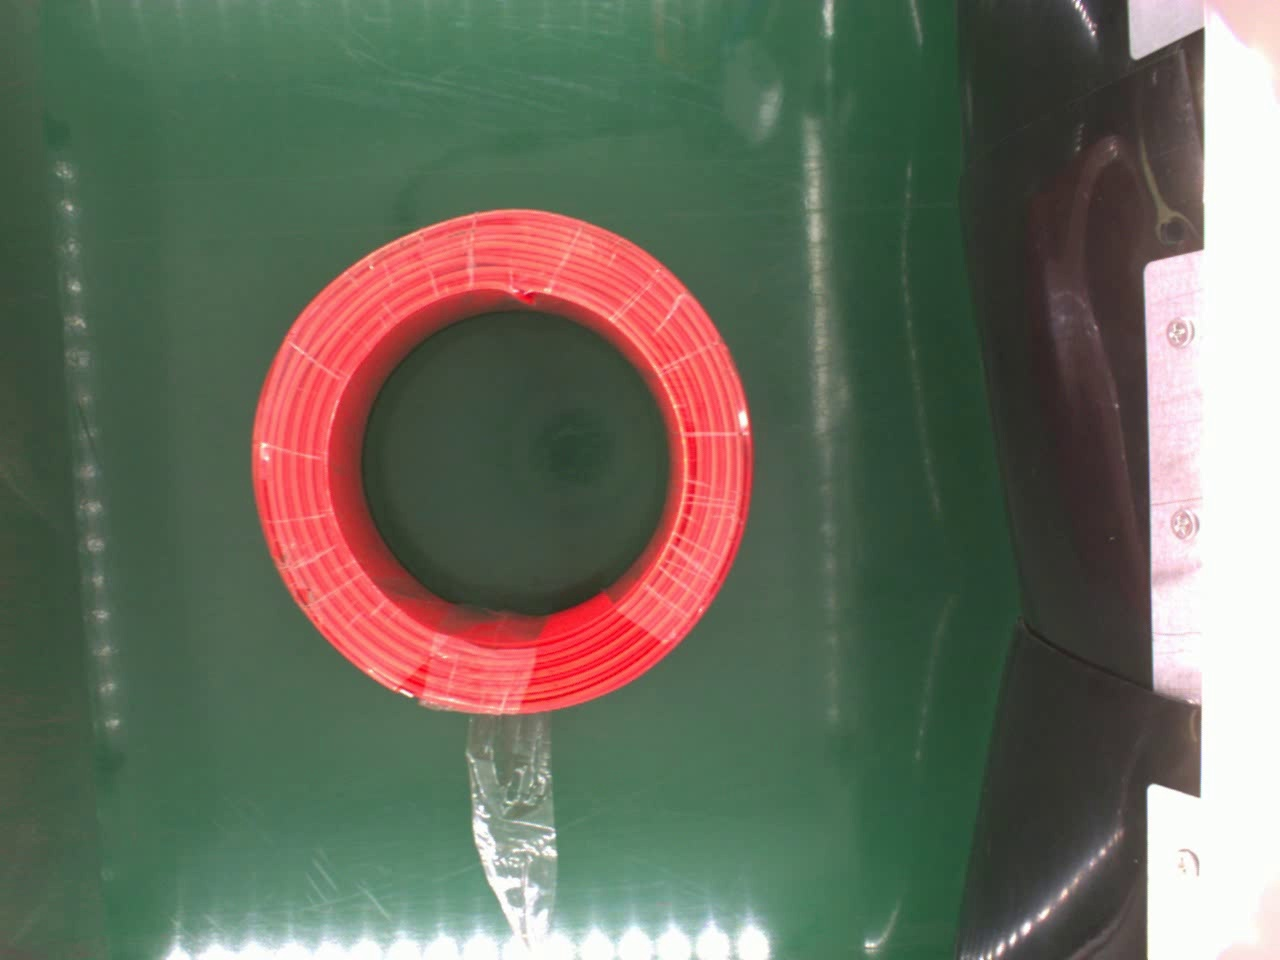red: (248, 200, 769, 719)
